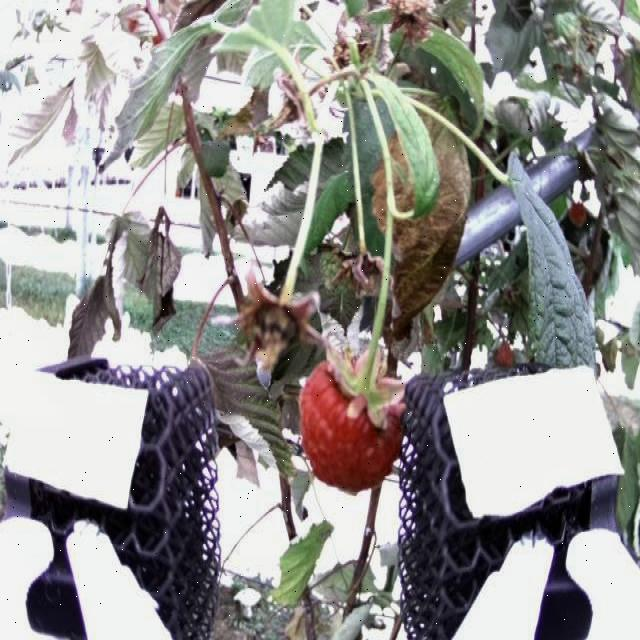Riped berries: (296, 352, 404, 491)
